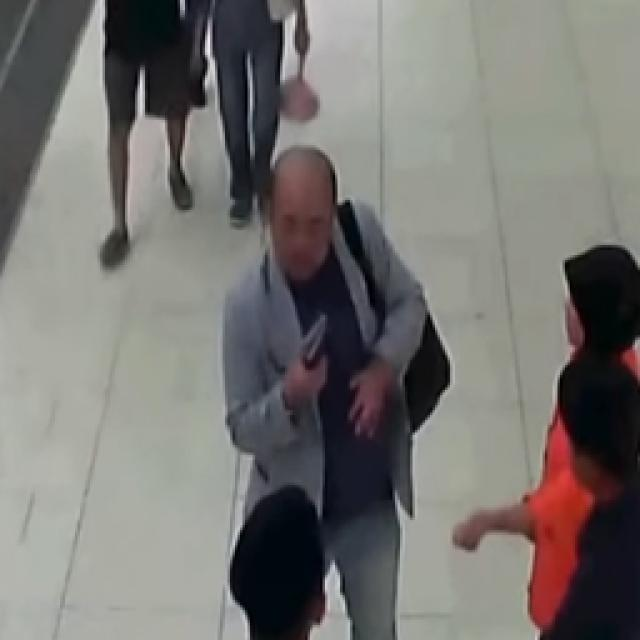person: (222, 148, 422, 635), (450, 408, 590, 628), (540, 350, 635, 635), (100, 0, 190, 268), (208, 0, 308, 222), (230, 488, 322, 635), (562, 242, 635, 375)
